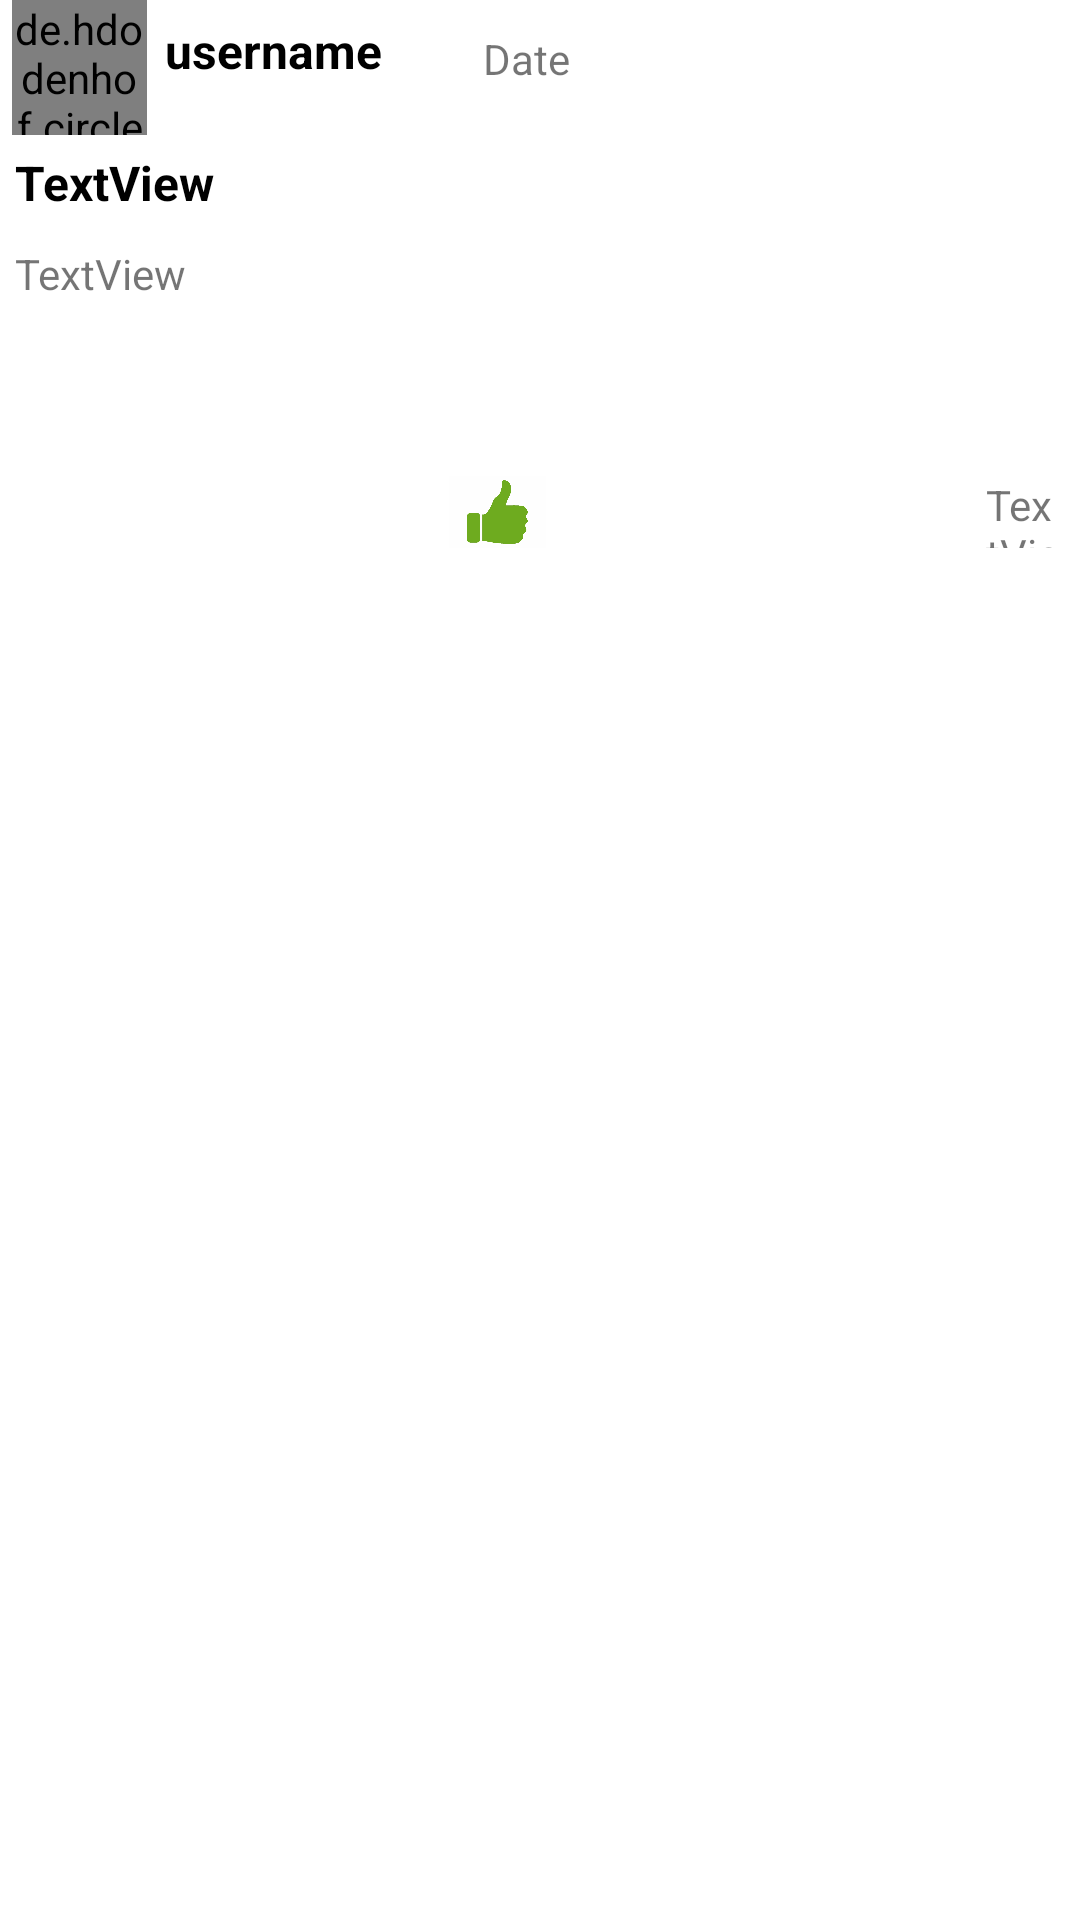

Named icons in this screenshot (1080*1920) and their bounding boxes, {"x1": x1, "y1": y1, "x2": x2, "y2": y2}:
thumbsup: {"x1": 467, "y1": 480, "x2": 528, "y2": 544}
